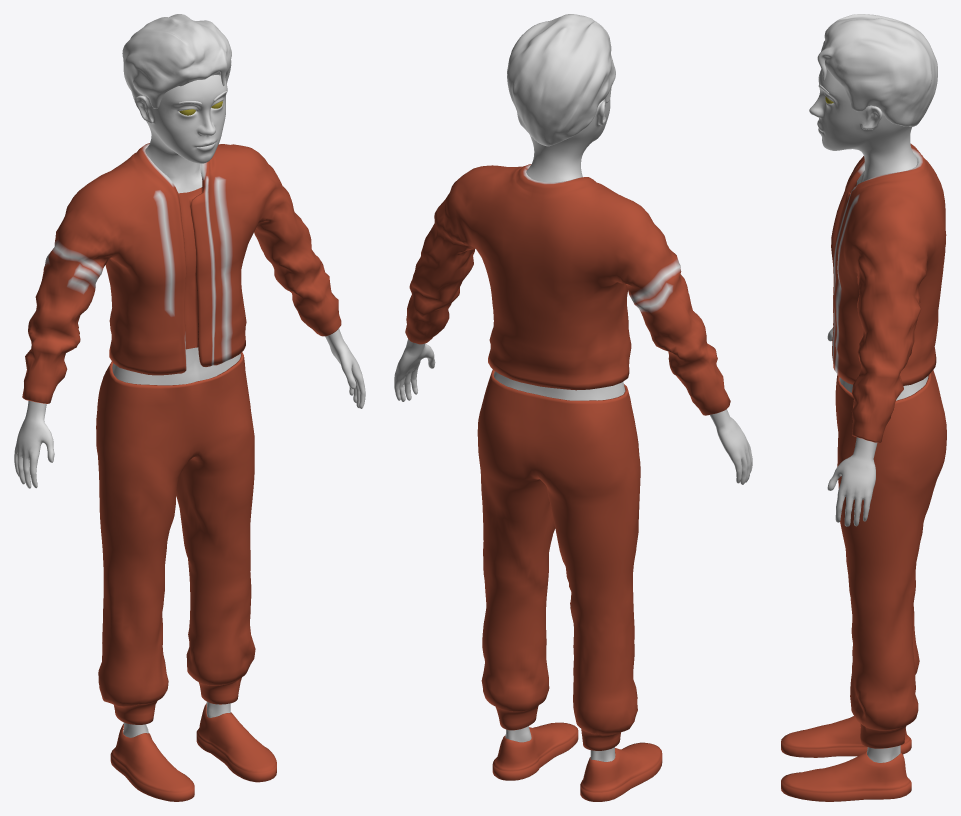
The model's file is starblade_wielder_gametest3.glb.
3 views of the same model, side by side, from view 1: azimuth 30°, elevation 25°; view 2: azimuth 150°, elevation 25°; view 3: azimuth 270°, elevation 25° (orthographic). The views are drawn at different scales.
Parts seen in each view (by area): view 1: clothes, body; view 2: clothes, body; view 3: clothes, body.
Boxes of the visible parts, <box> form: clothes: <box>22,143,341,801</box>; body: <box>14,14,365,737</box>; clothes: <box>405,164,730,801</box>; body: <box>394,14,752,761</box>; clothes: <box>781,143,946,801</box>; body: <box>809,14,937,762</box>.
Size of the model in its own units: 0.9103 by 1.88 by 0.3759.
